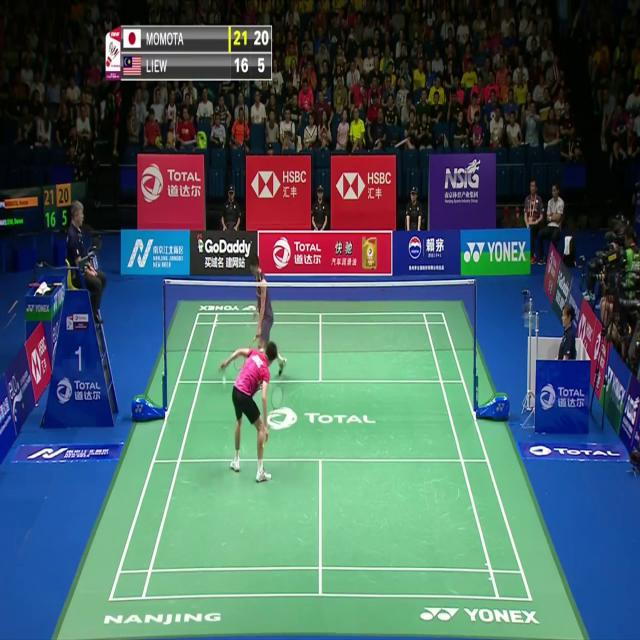Shuttlecock: (222, 376, 228, 387)
